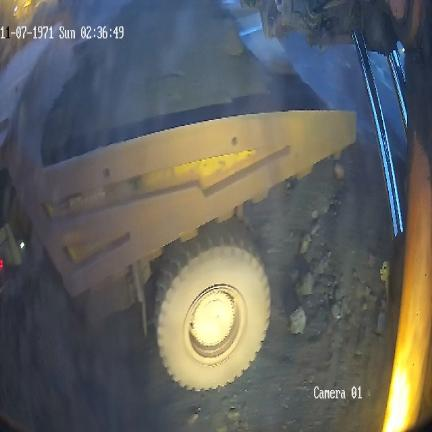pile: (45, 0, 288, 162), (248, 145, 393, 344)
